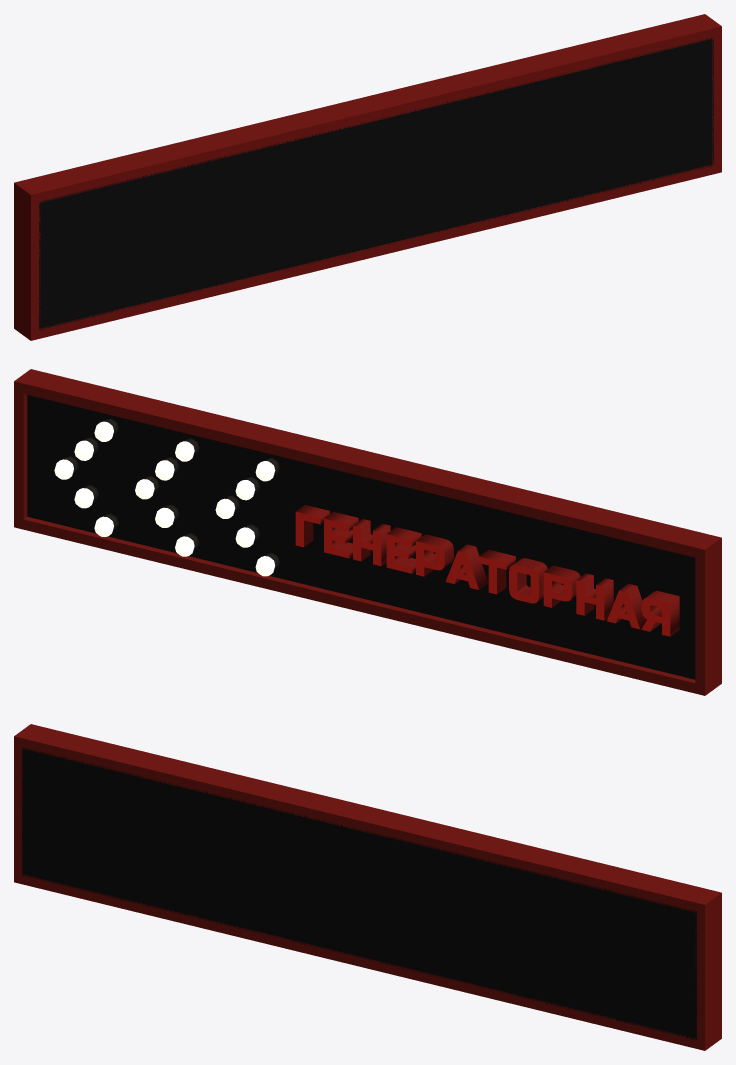
Rendered from arrow_generator_left.glb.
3 renders of one model, top to bottom at view 1: azimuth 30°, elevation 25°; view 2: azimuth 150°, elevation 25°; view 3: azimuth 330°, elevation 25°, orthographic.
Parts seen in each view (by area): view 1: Sign; view 2: Sign, BulbsA, BulbsB; view 3: Sign.
Part boxes in pixels (box(x1,y1,x2,y2)): Sign: box(14, 14, 721, 340); Sign: box(14, 369, 721, 695); BulbsA: box(54, 421, 275, 576); BulbsB: box(135, 441, 194, 556); Sign: box(14, 724, 721, 1050).
Bounding box in the file's own units: 4.26 × 0.86 × 0.268.
2 materials, 1 textured.
